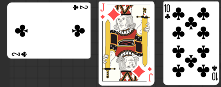10C: (211, 64, 219, 82)
2C: (72, 4, 89, 12)
AC: (11, 51, 29, 58)
